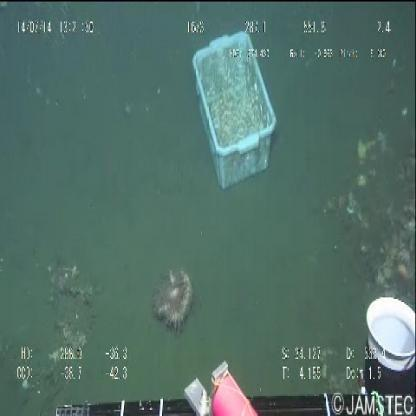Rov: (49, 284, 415, 414)
Rác: (184, 20, 282, 192)
